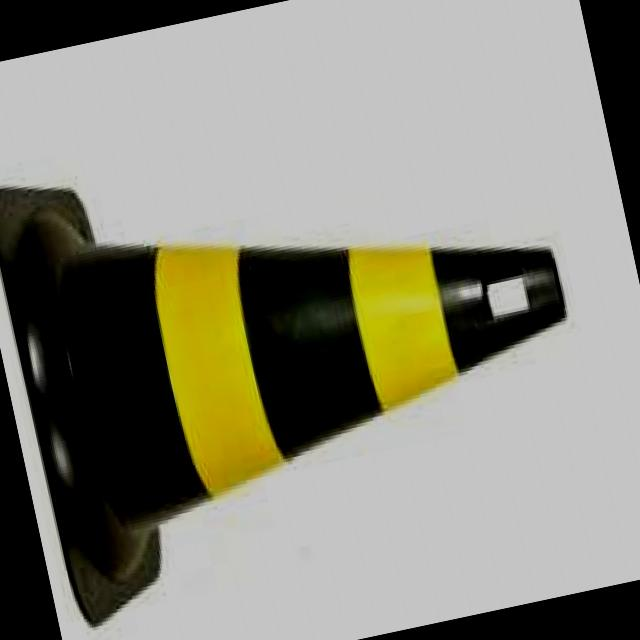cone: (0, 91, 618, 640)
